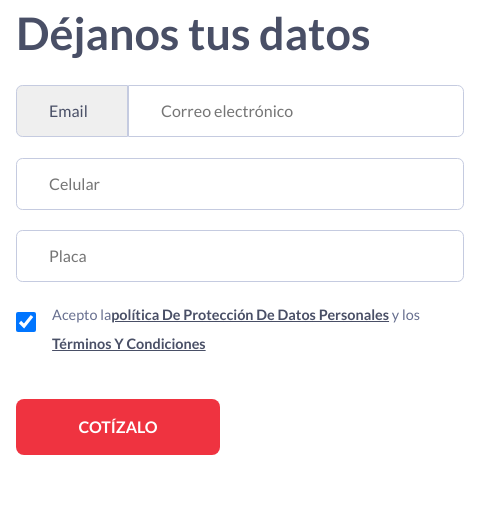
correct form validation
The image size is (481, 530).
Click the button "Cotízalo" at (118, 427), box [16,399,220,456]
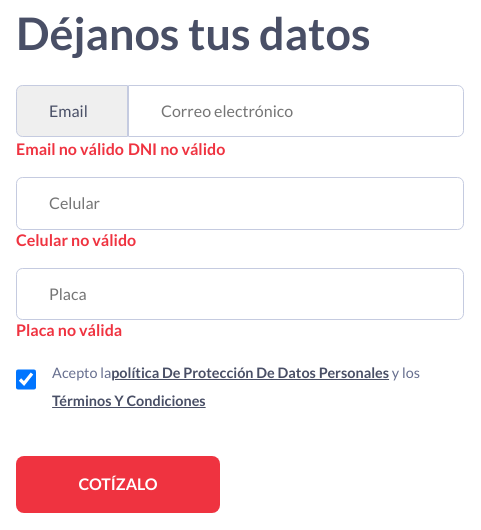
expect the text "Email no válido" is shown: met, box [16,139,128,158]
expect the text "DNI no válido" is shown: met, box [128,139,225,158]
expect the text "Celular no válido" is shown: met, box [16,230,136,248]
